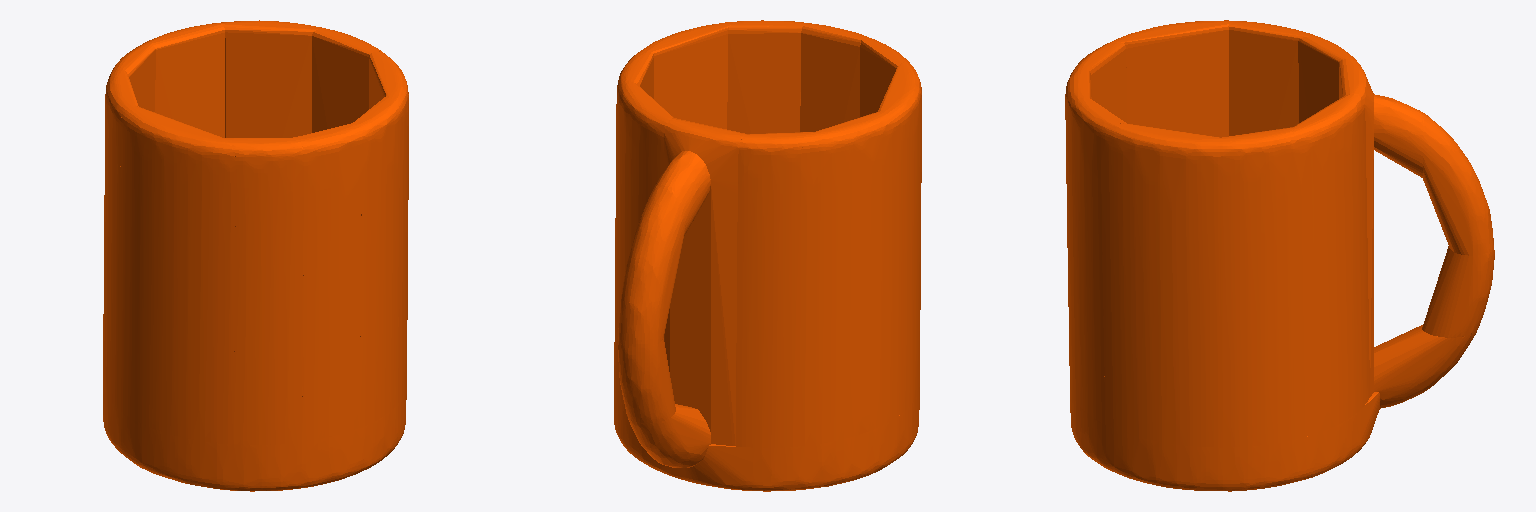
The robot description file, URDF, robot "design":
<?xml version="1.0"?>
<robot name="design">
  <material name="obj_color">
      <color rgba="1.0 0.423529411765 0.0392156862745 1.0"/>
  </material>
  <link name="base">
    <visual>
      <origin xyz="0.0 0.0 0.0"/>
      <geometry>
        <mesh filename="mug.obj" scale="1 1 1"/>
      </geometry>
      <material name="obj_color"/>
    </visual>
    <collision>
      <origin xyz="0.0 0.0 0.0"/>
      <geometry>
        <mesh filename="mug.obj" scale="1 1 1"/>
      </geometry>
    </collision>
  </link>
</robot>

--- What the picture shows (computed from the rendered views, not written in the file) ---
3 views of the same robot in one strip: view 1: azimuth 30°, elevation 25°; view 2: azimuth 150°, elevation 25°; view 3: azimuth 270°, elevation 25° (orthographic).
Robot: design — 1 links, 0 joints (none); root link base; default pose: all joints at 0.
Links seen in each view (by area): view 1: base; view 2: base; view 3: base.
Boxes of the visible links, left/top/right/bottom form: base: left=103, top=20, right=408, bottom=491; base: left=614, top=20, right=921, bottom=491; base: left=1065, top=20, right=1494, bottom=491.
Size in the robot's own frame: 0.0834 by 0.1175 by 0.1069 metres.
Meshes: 1 distinct files referenced, 1 mesh visuals loaded (1 OBJ).
